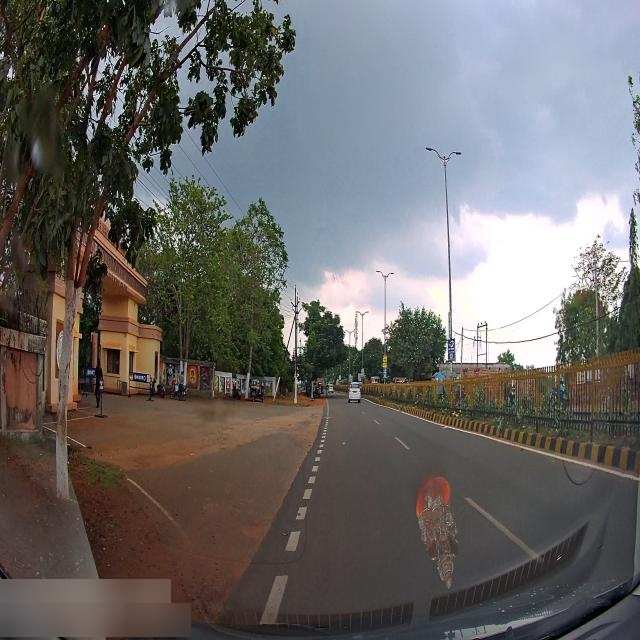pothole: (202, 427, 240, 447), (289, 422, 318, 444)
